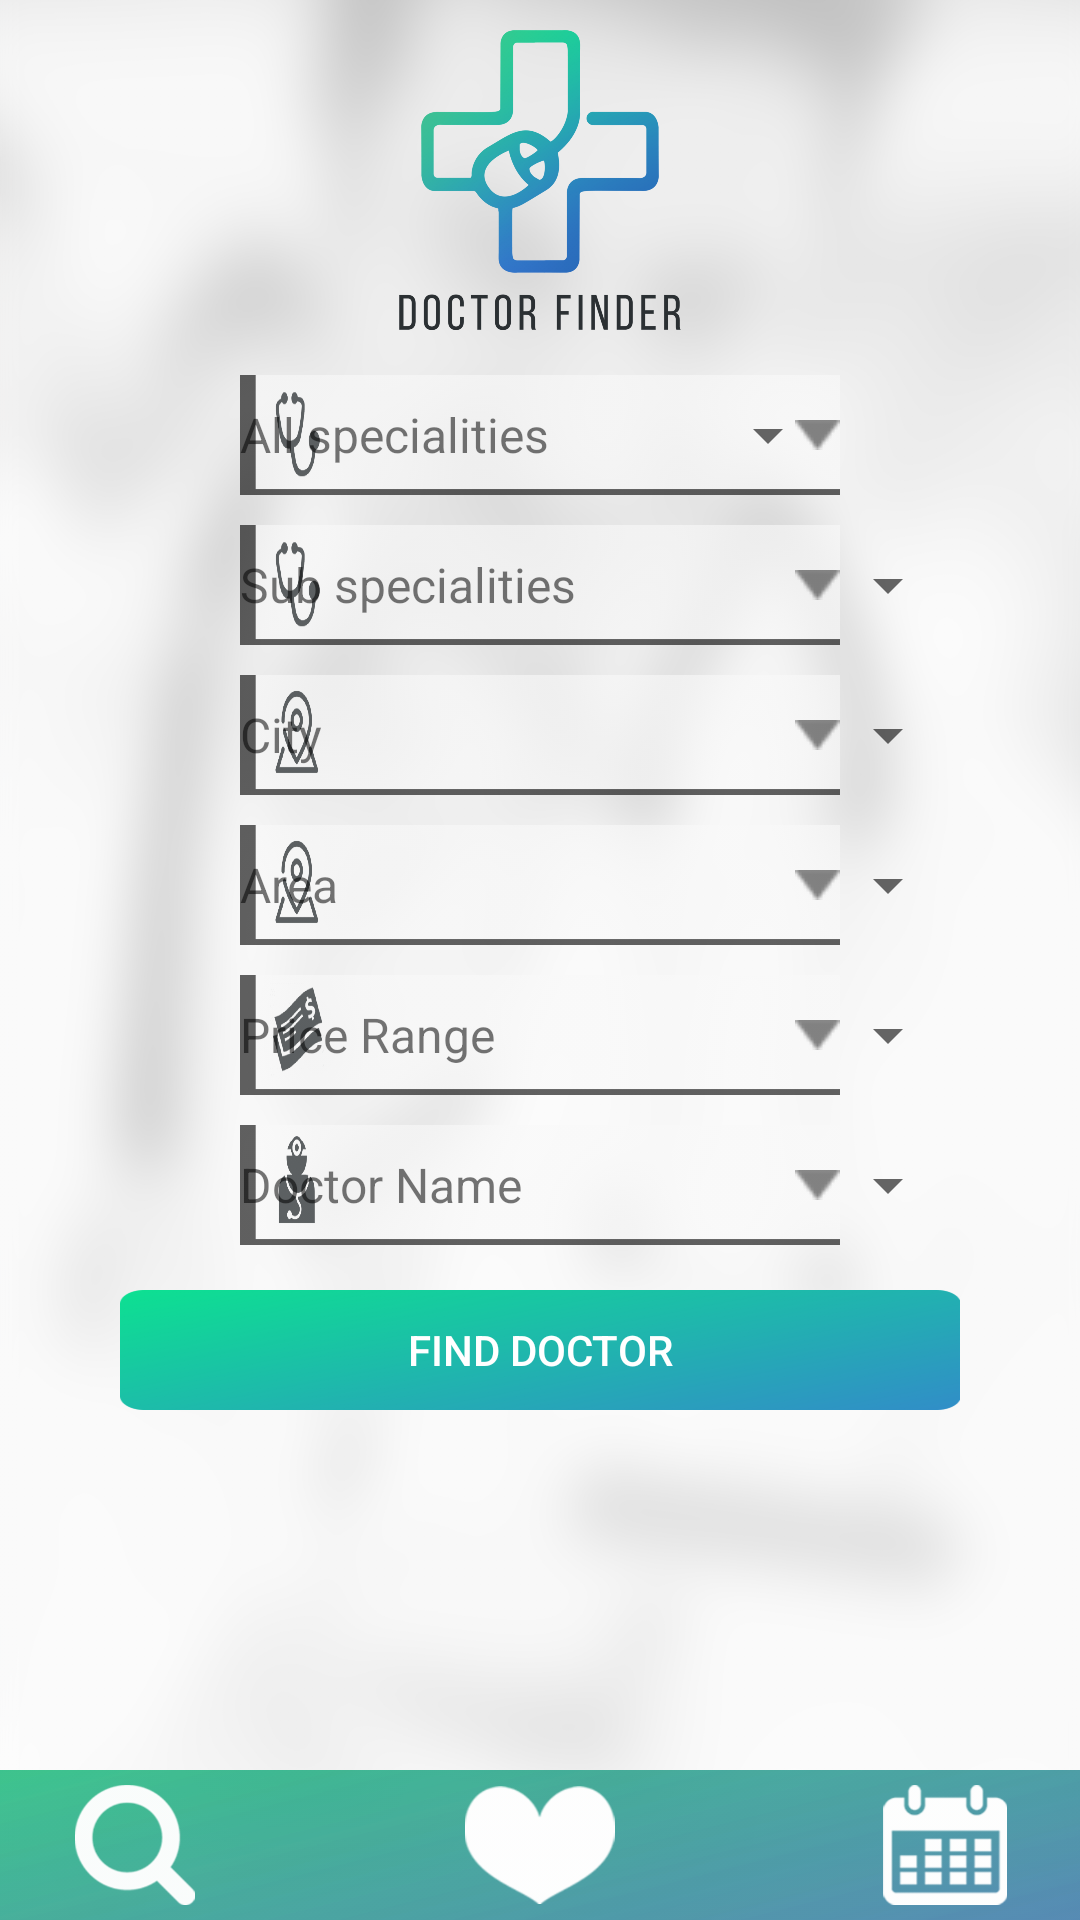

Screen size 1080w x 1920h. Icon name, then its center in pixels as [x,y]:
favourites: [540,1845]
search: [135,1845]
timetable: [945,1845]
